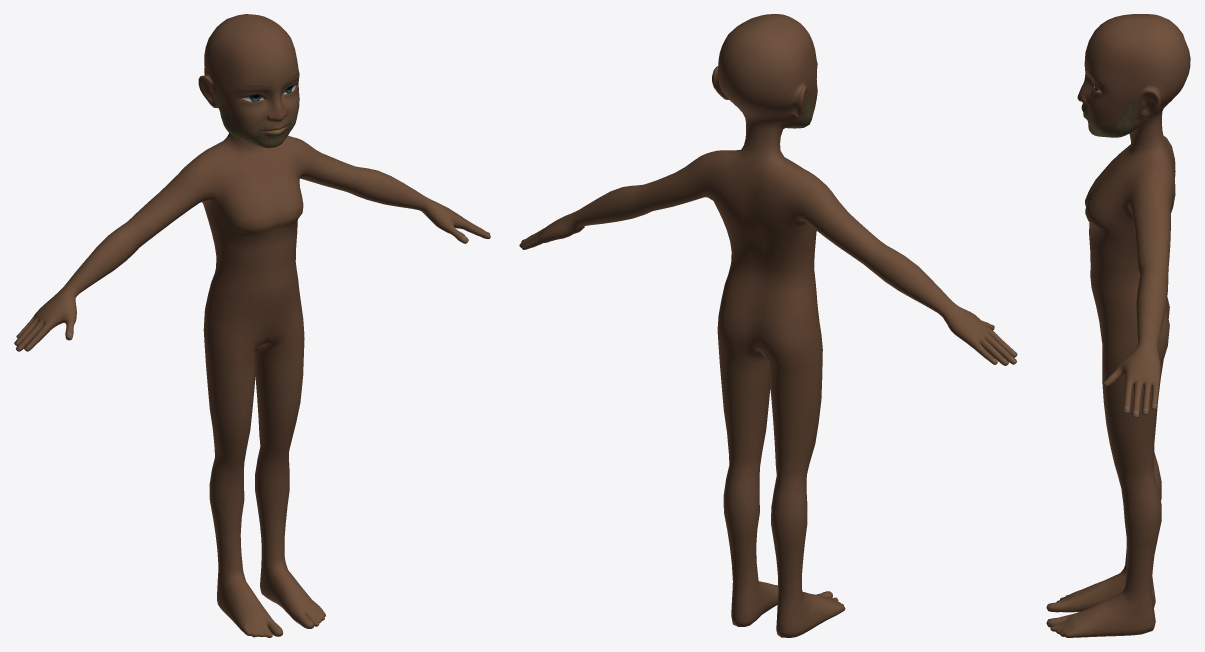
Rendered from frame_0064.glb.
The picture shows the model from 3 angles, left to right: view 1: azimuth 30°, elevation 25°; view 2: azimuth 150°, elevation 25°; view 3: azimuth 270°, elevation 25°; orthographic projection. The views are drawn at different scales.
Parts seen in each view (by area): view 1: frame_0064_head_geo; view 2: frame_0064_head_geo; view 3: frame_0064_head_geo.
Part boxes in pixels (<box>): frame_0064_head_geo: <box>14,14,490,637</box>; frame_0064_head_geo: <box>519,14,1017,637</box>; frame_0064_head_geo: <box>1046,14,1190,637</box>.
Size of the model in its own units: 1.28 by 1.5 by 0.3253.
3 materials, 3 textured.
